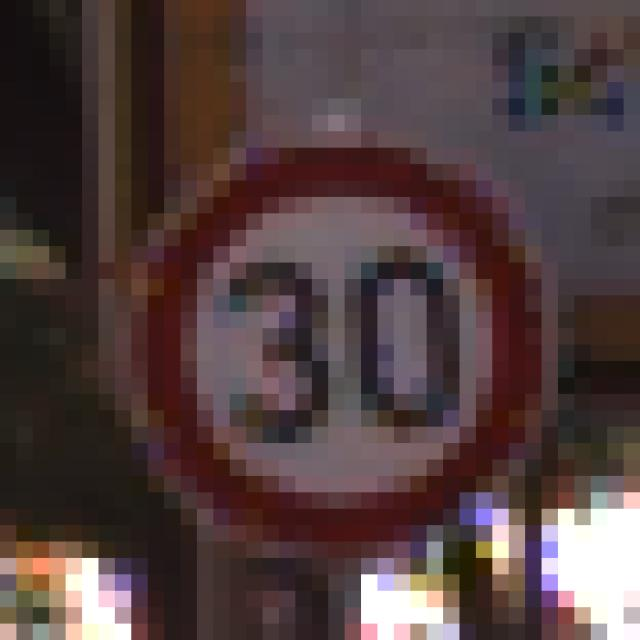Speed Limit -30-: (74, 90, 533, 550)
